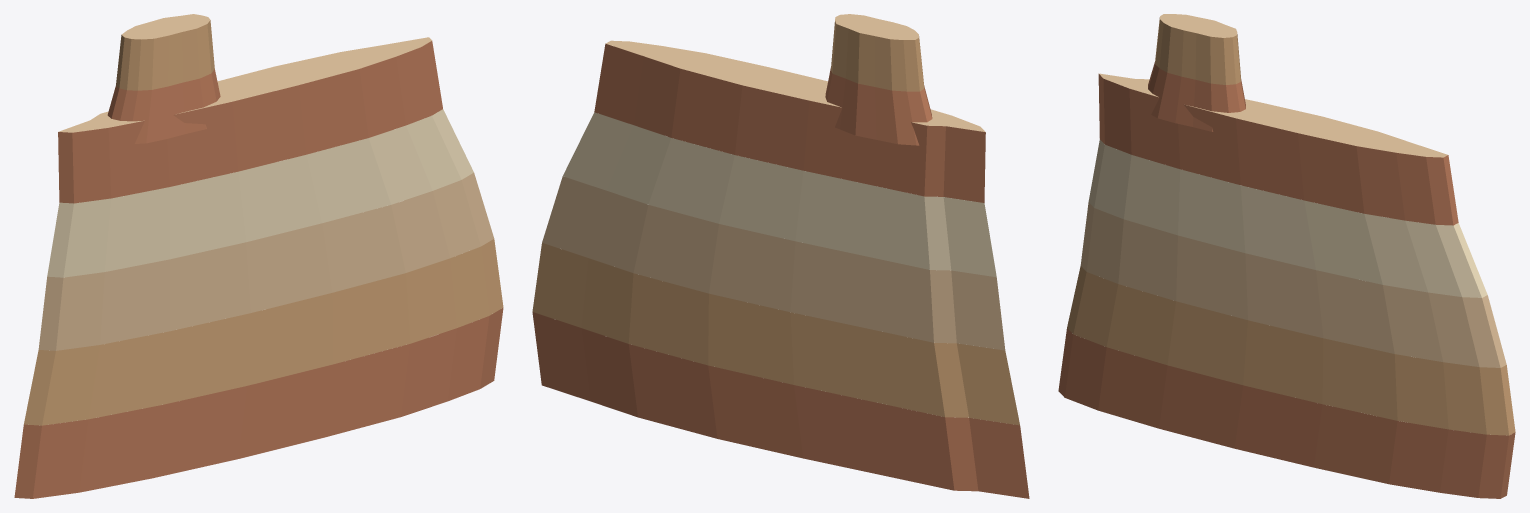
The model's file is desert-canyons-and-oases-fin-wall-235814da__20898.glb.
The picture shows the model from 3 angles, left to right: view 1: azimuth 30°, elevation 25°; view 2: azimuth 150°, elevation 25°; view 3: azimuth 330°, elevation 25°; orthographic projection. The views are drawn at different scales.
Parts seen in each view (by area): view 1: fin-wall; view 2: fin-wall; view 3: fin-wall.
Part boxes in pixels (x1,y1,x2,y2): fin-wall: (14, 14, 503, 498); fin-wall: (532, 14, 1029, 498); fin-wall: (1058, 14, 1515, 498).
Size of the model in its own units: 7.22 by 6.1 by 0.8347.
